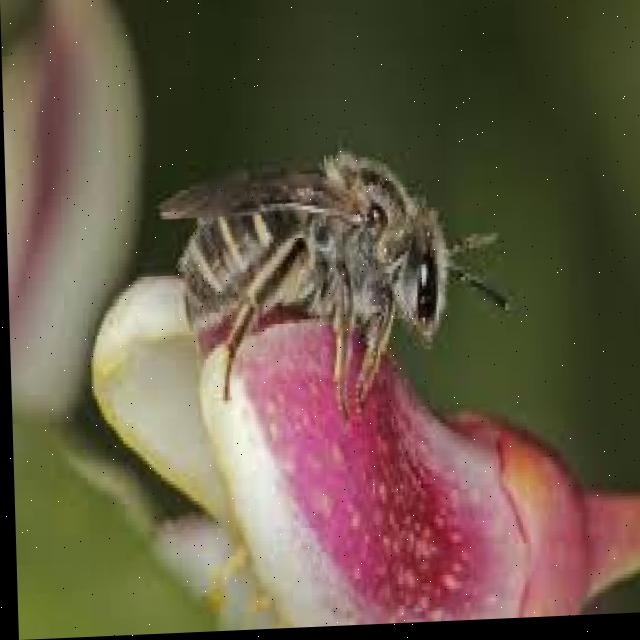Lasioglossum: (148, 147, 512, 397)
